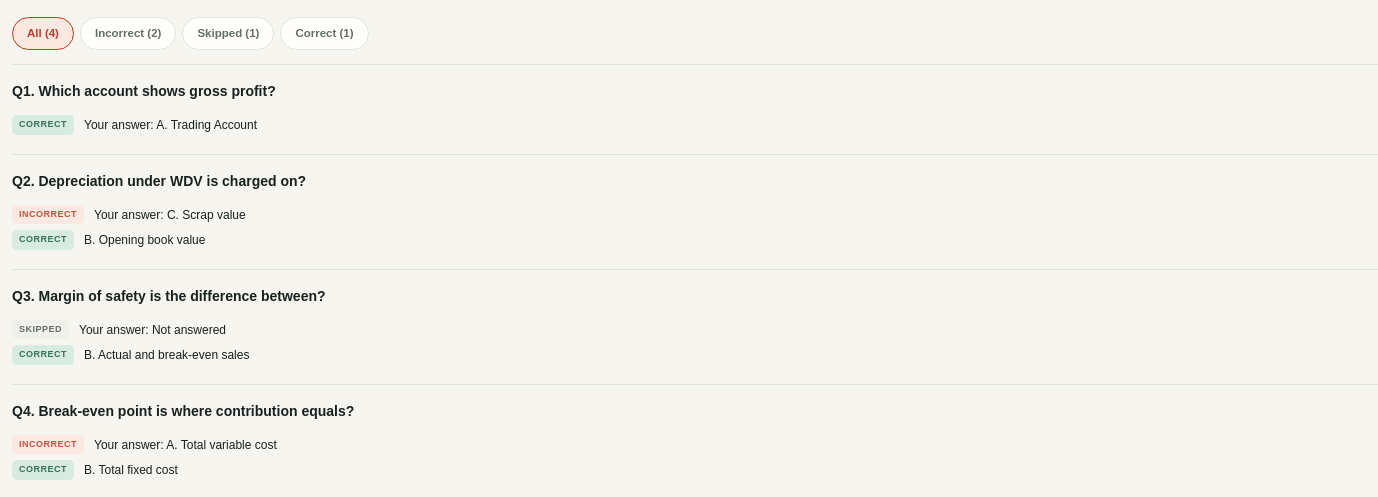
Test case: ResultQuestionList › narrows to only correct answers
Click the button "Correct (1)" at {"x": 324, "y": 34}, box [280,17,369,50]
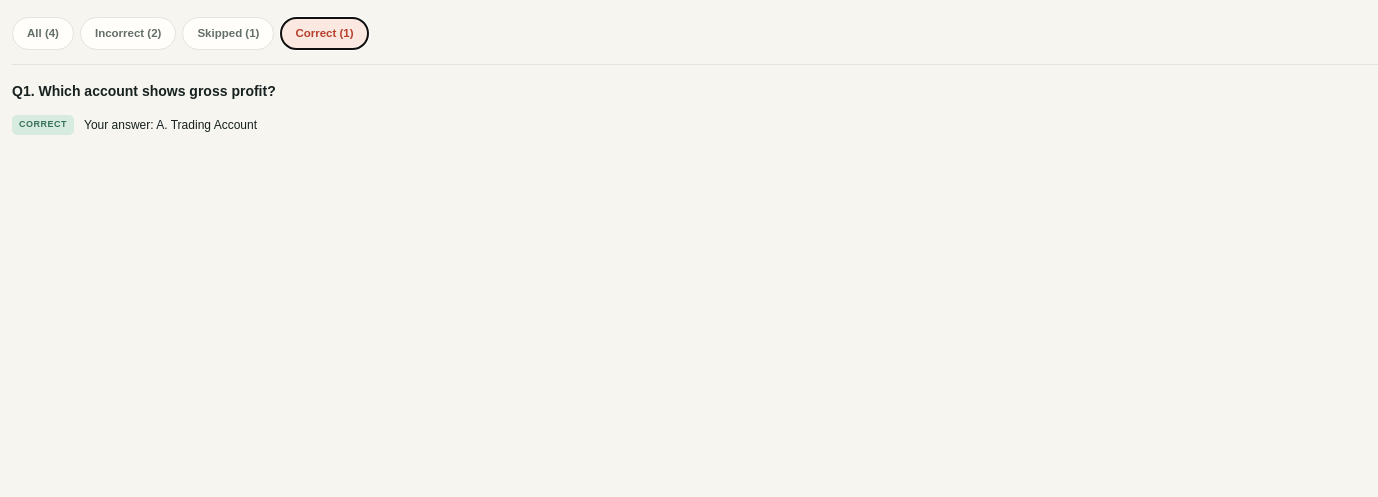
Check: the heading "Q1. Which account shows gross profit?" is shown, box [12,83,276,99]
Check: the heading "Break-even point" is gone
